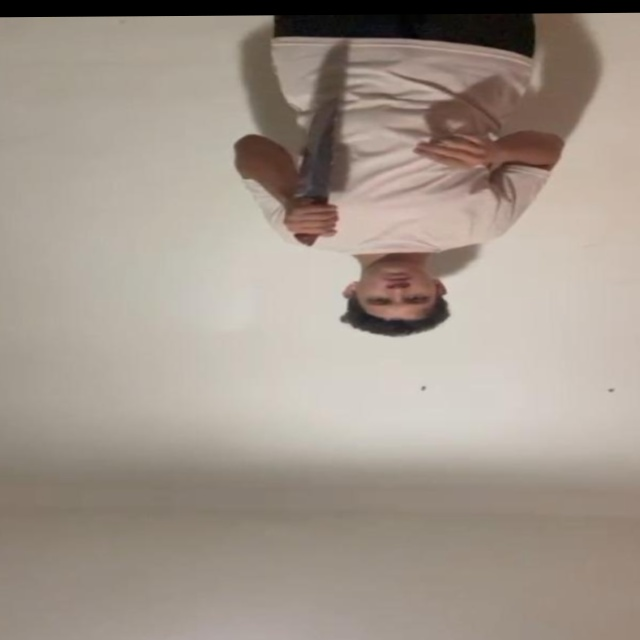Sharp-Object: (294, 103, 340, 199)
